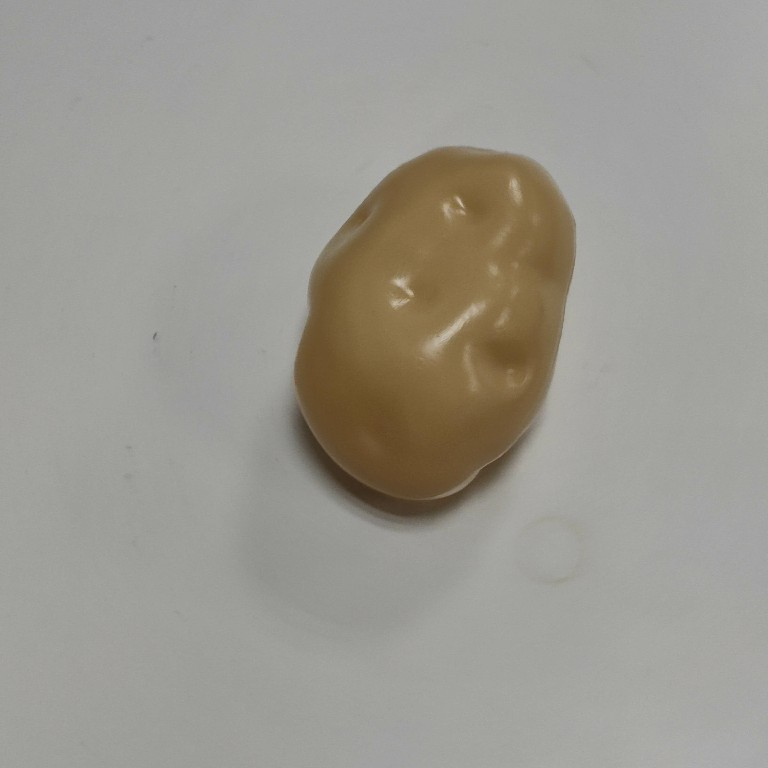fruit_potato: (285, 141, 580, 508)
